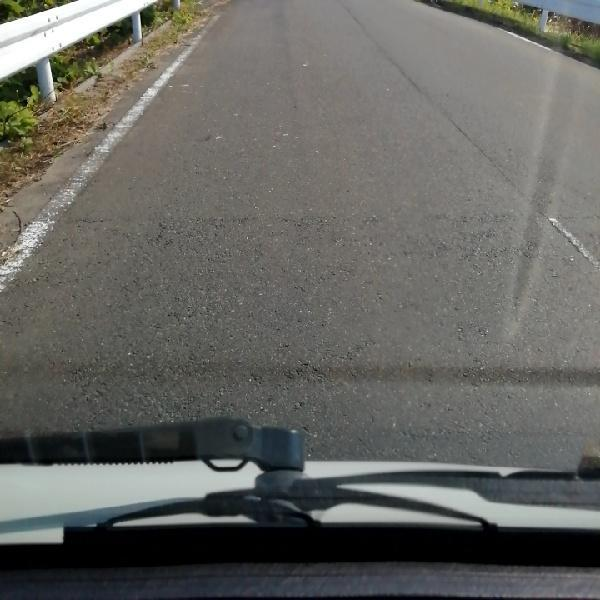D10: (59, 204, 297, 233)
D44: (545, 209, 597, 319)
